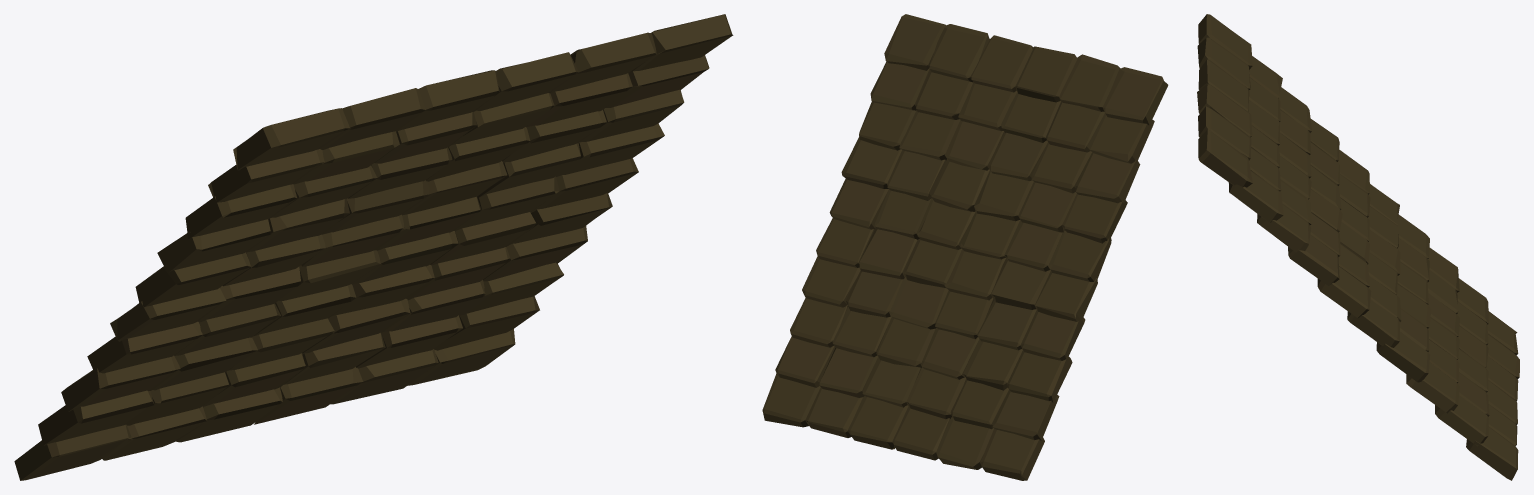
The model's file is BrickWall-Sandstone-Roof-Only.fbx.
3 views of the same model, side by side, from view 1: azimuth 30°, elevation 25°; view 2: azimuth 150°, elevation 25°; view 3: azimuth 270°, elevation 25° (orthographic). The views are drawn at different scales.
Visible parts, largest first — view 1: RoofShinglesOnly.002; view 2: RoofShinglesOnly.002; view 3: RoofShinglesOnly.002.
Part boxes in pixels (x1,y1,x2,y2): RoofShinglesOnly.002: (14, 14, 733, 480); RoofShinglesOnly.002: (762, 14, 1168, 480); RoofShinglesOnly.002: (1197, 14, 1519, 480).
Size of the model in its own units: 883 by 973 by 857.
